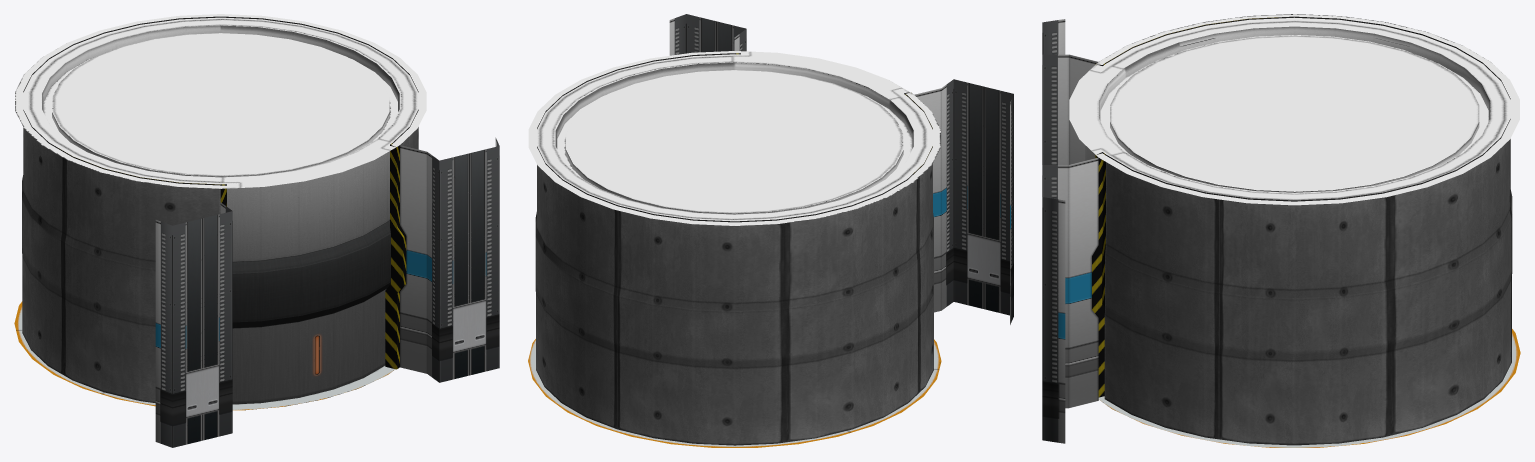
File: EndDoor.fbx
3 views of the same model, side by side, from view 1: azimuth 30°, elevation 25°; view 2: azimuth 150°, elevation 25°; view 3: azimuth 270°, elevation 25° (orthographic). The views are drawn at different scales.
Visible parts, largest first — view 1: DoorFrame, InnerCircle; view 2: DoorFrame; view 3: DoorFrame.
Boxes of the visible parts, x1,y1,x2,y2 form: DoorFrame: [14, 14, 499, 447]; InnerCircle: [227, 151, 390, 404]; DoorFrame: [528, 14, 1013, 447]; DoorFrame: [1042, 14, 1520, 447].
Bounding box in the file's own units: 4.22 × 2.53 × 4.45.
2 materials, 2 textured.
